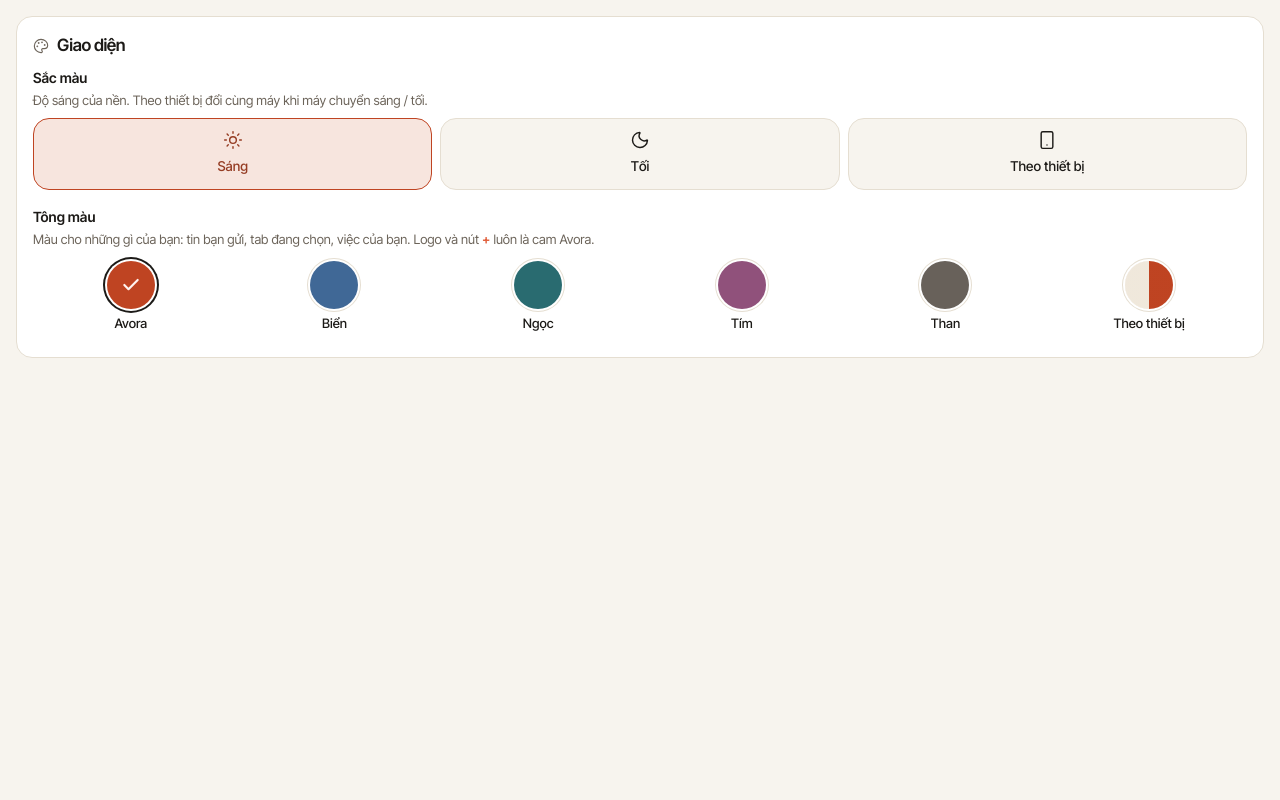
Test: 74.2 · Ngọc → Giữ tông này; máy thứ hai ra Ngọc khi mở lại
Click the radio button labelled "Ngọc": (538, 298) top-left (440, 256), bottom-right (636, 340)
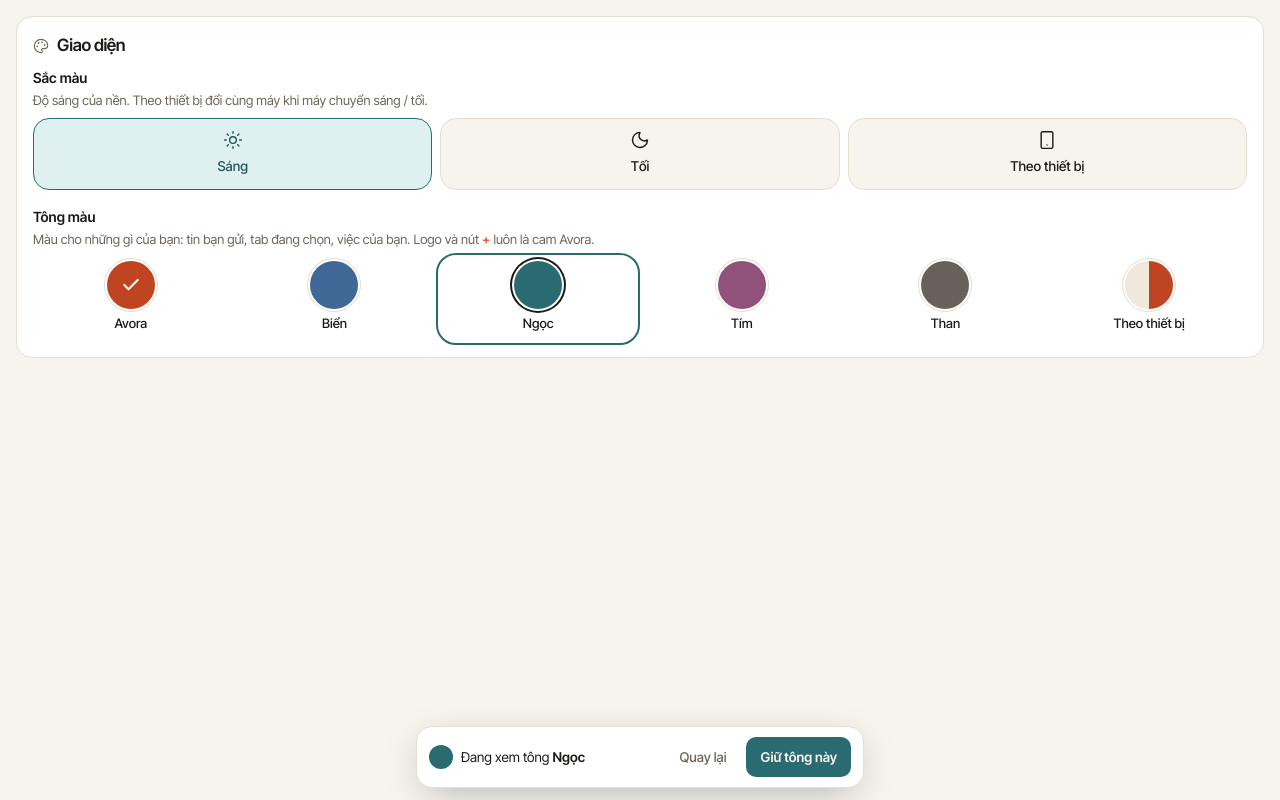
Click the button "Giữ tông này": (799, 757) top-left (746, 737), bottom-right (851, 777)
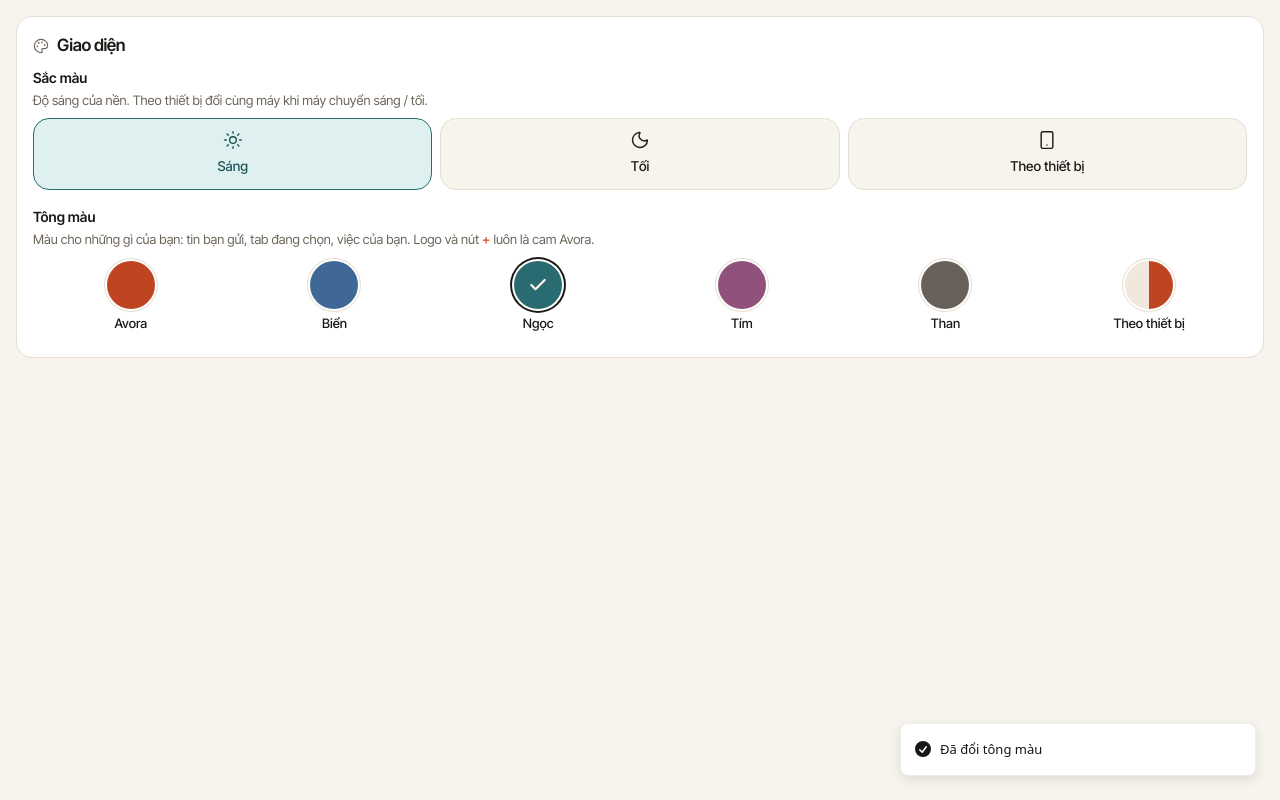
Expected: the text "Đã đổi tông màu" is shown, top-left (940, 740), bottom-right (1042, 759)
